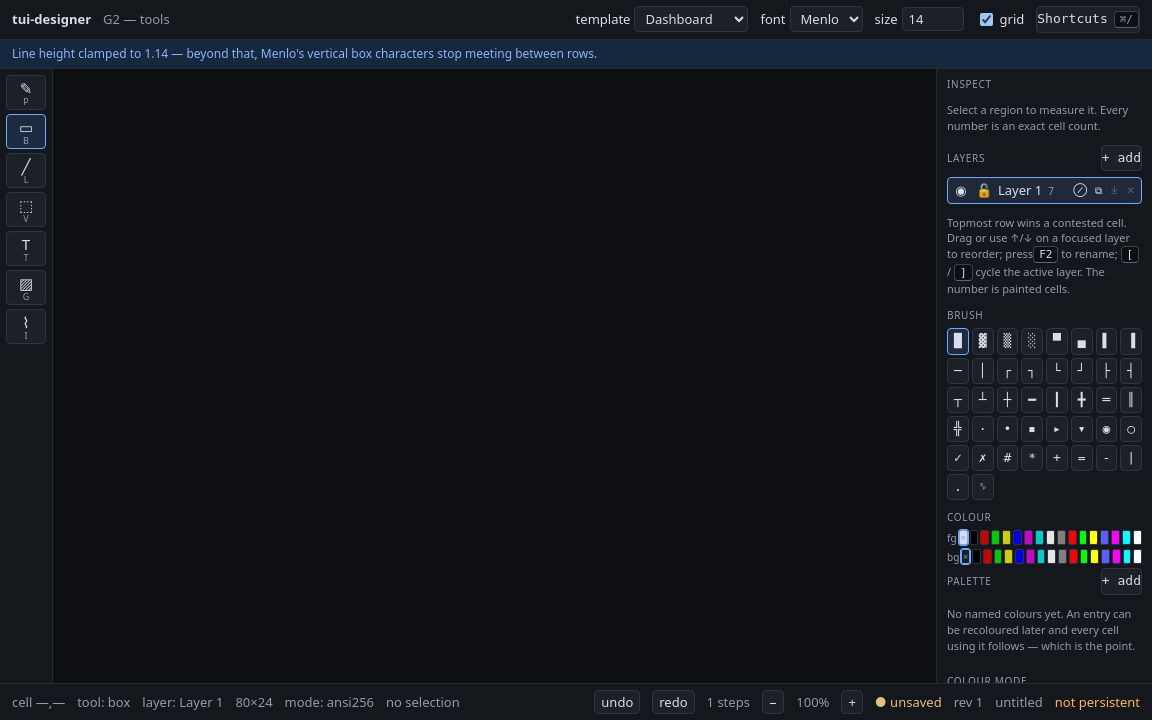
Scenario: App component boundary › focuses Save As and marks the exact saved revision clean on completion
This screenshot has width=1152, height=720.
Press s
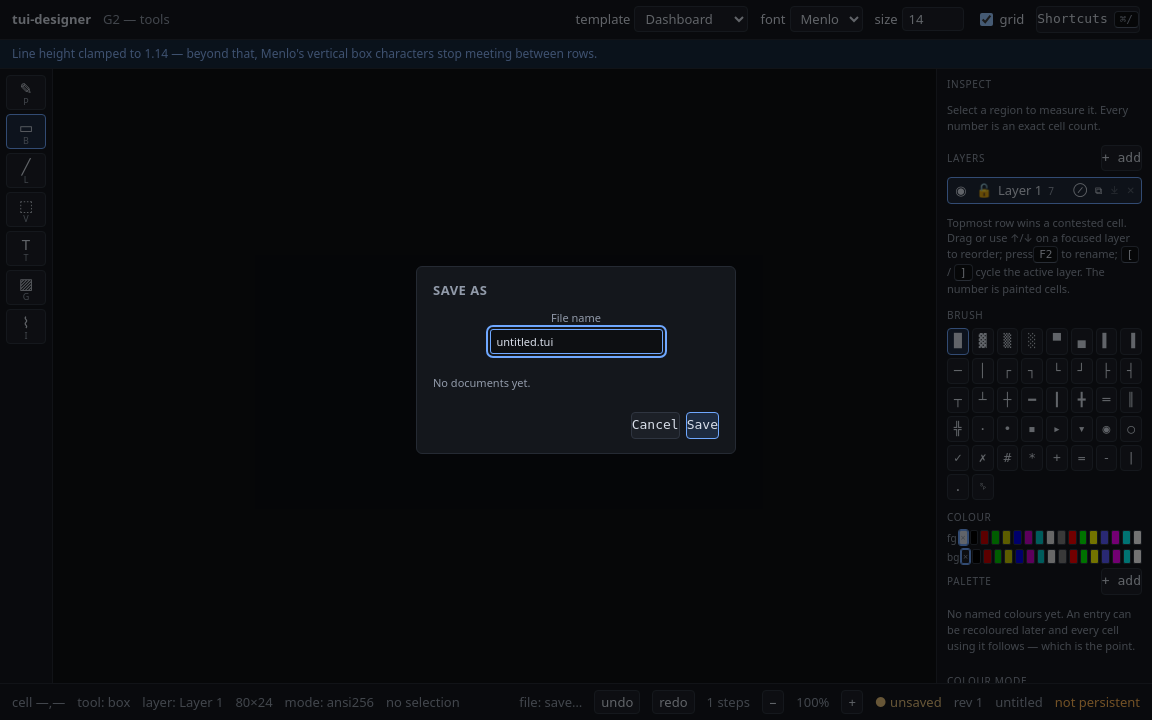
Clear the field labelled "File name" at {"x": 576, "y": 342}, box [490, 329, 662, 354]
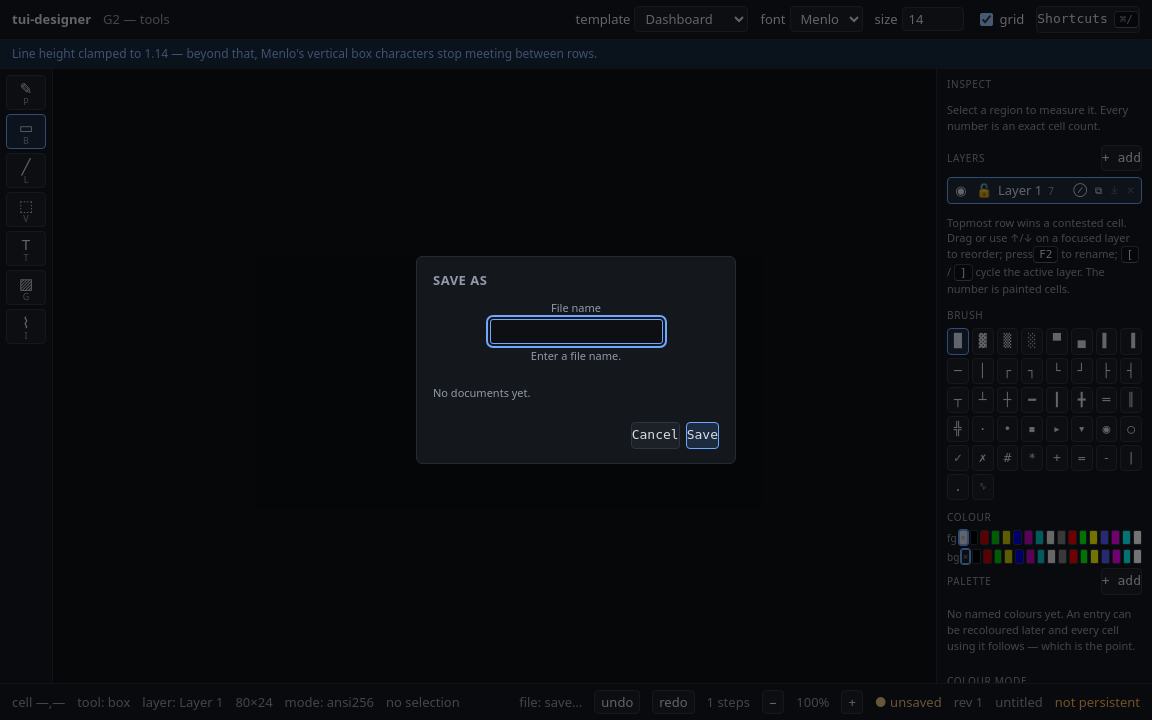
Type "component-test" into the field labelled "File name" at {"x": 576, "y": 332}, box [490, 319, 662, 344]
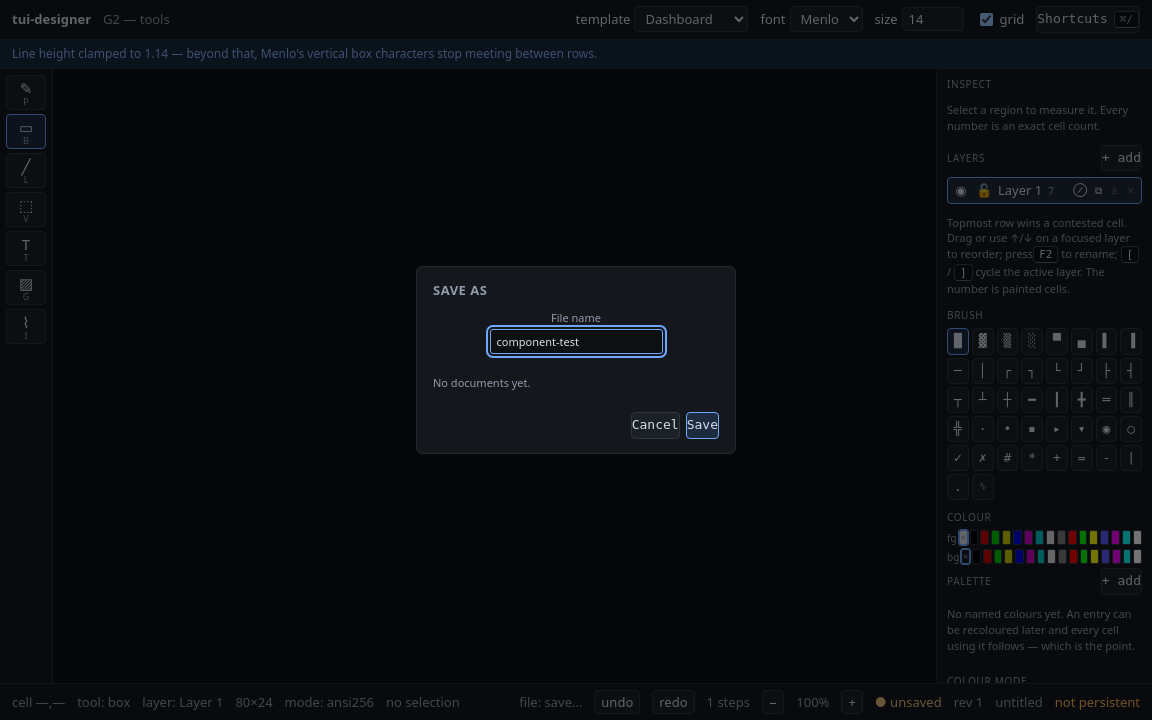
Click the button "Save" at {"x": 702, "y": 426}, box [686, 412, 719, 439]
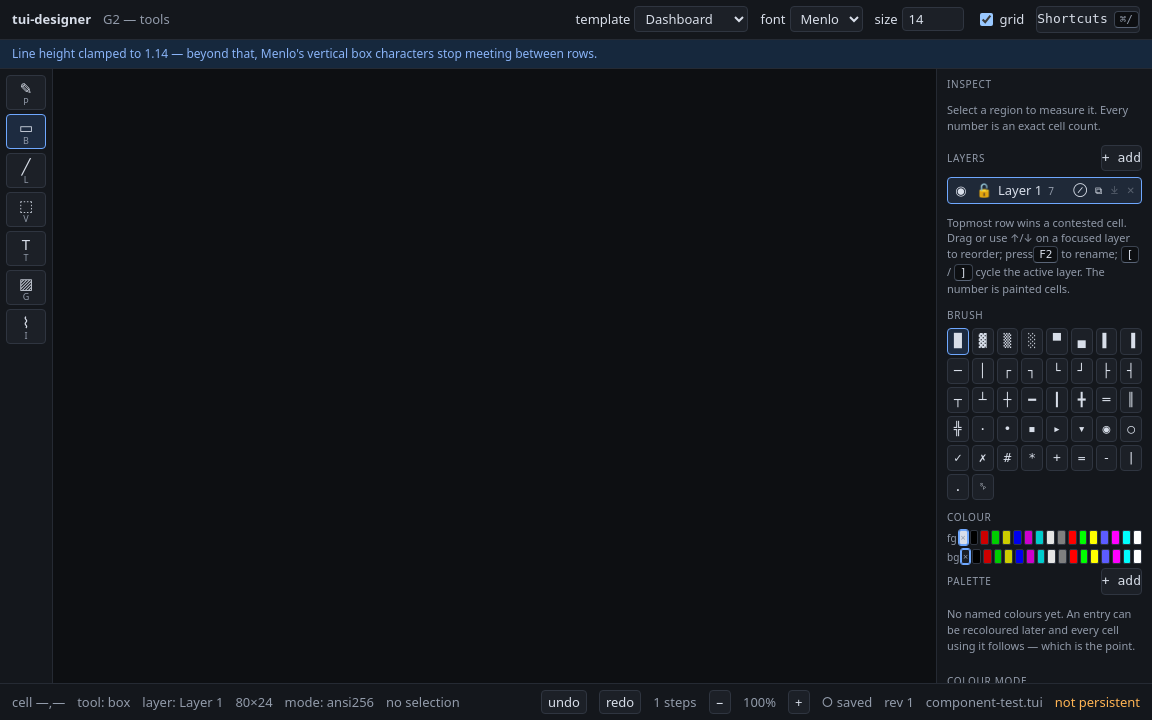
Expected: the text "component-test.tui" is shown, [926, 693, 1043, 711]
Expected: the text "○ saved" is shown, [822, 693, 872, 711]
